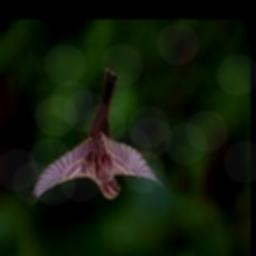Sparrow: (28, 68, 167, 208)
